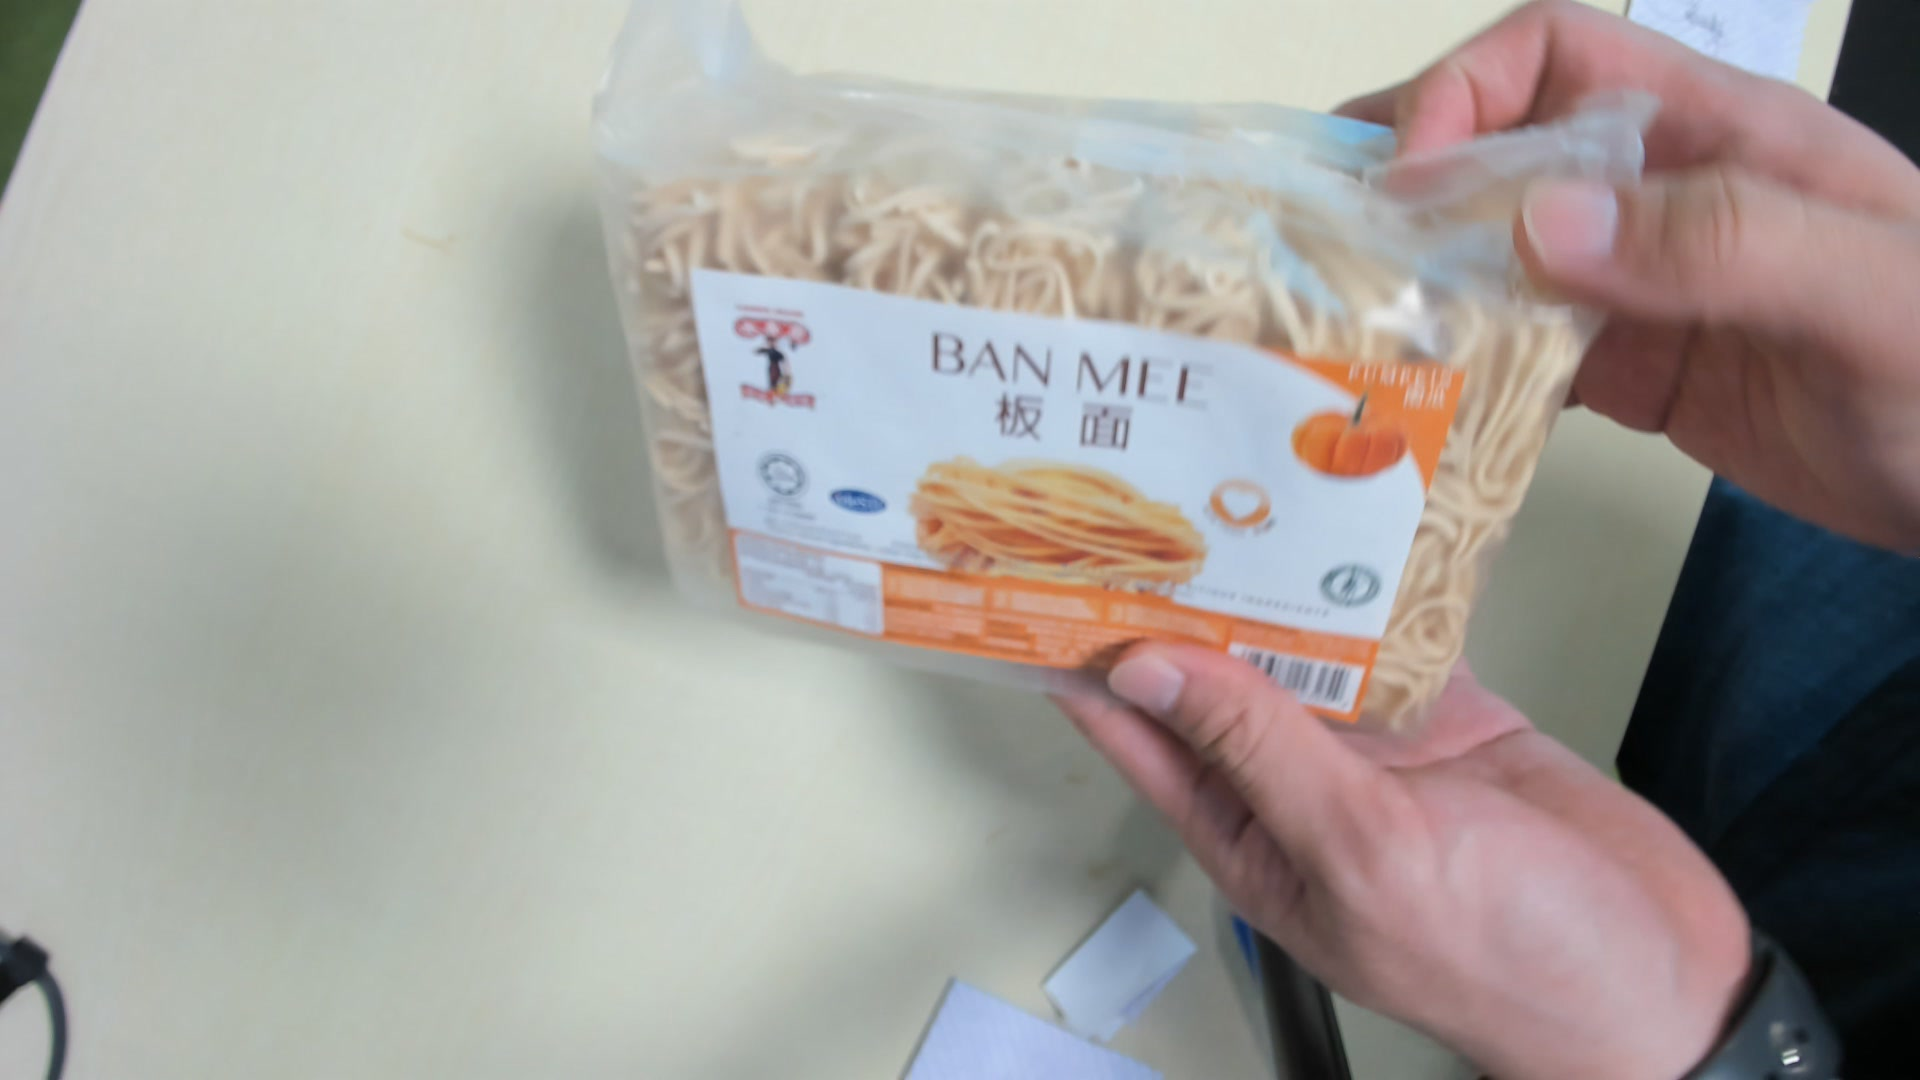OtherNoodles_500-599g_Halal_NonHealthy: (601, 67, 1615, 738)
